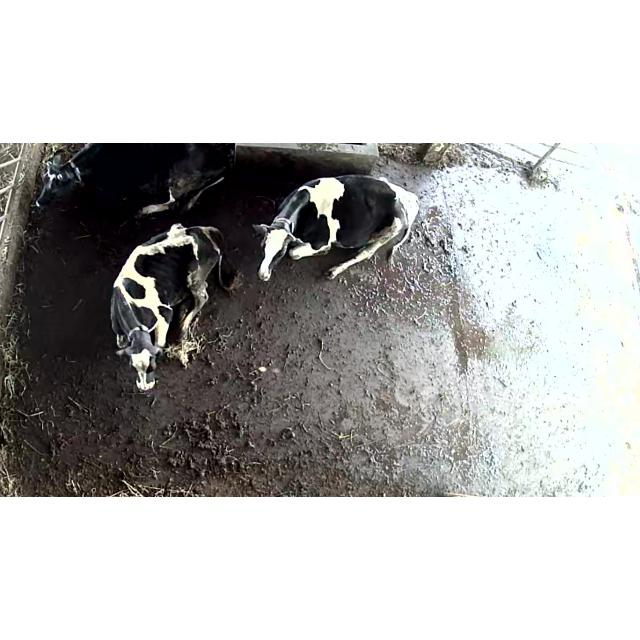lay: (93, 222, 244, 398), (254, 164, 436, 290)
